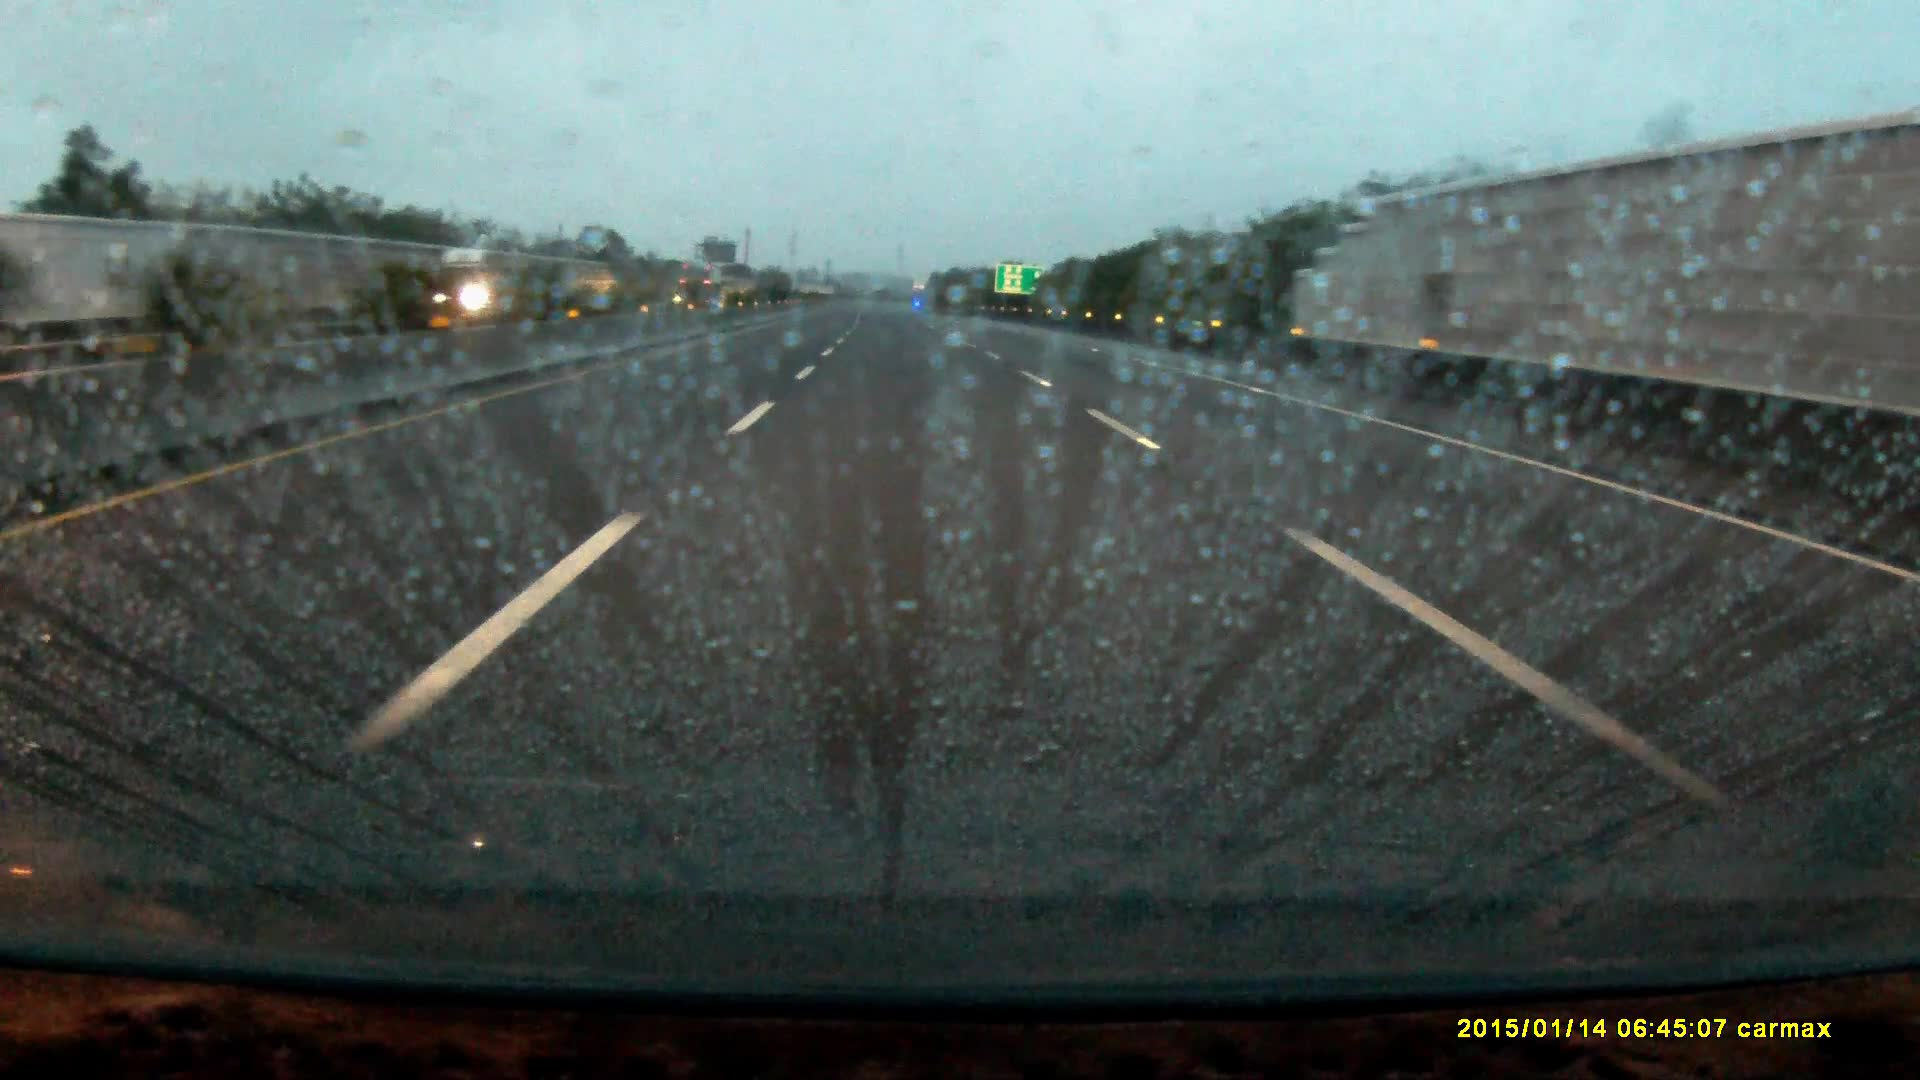vehicle: (433, 247, 533, 330), (680, 272, 727, 313)
